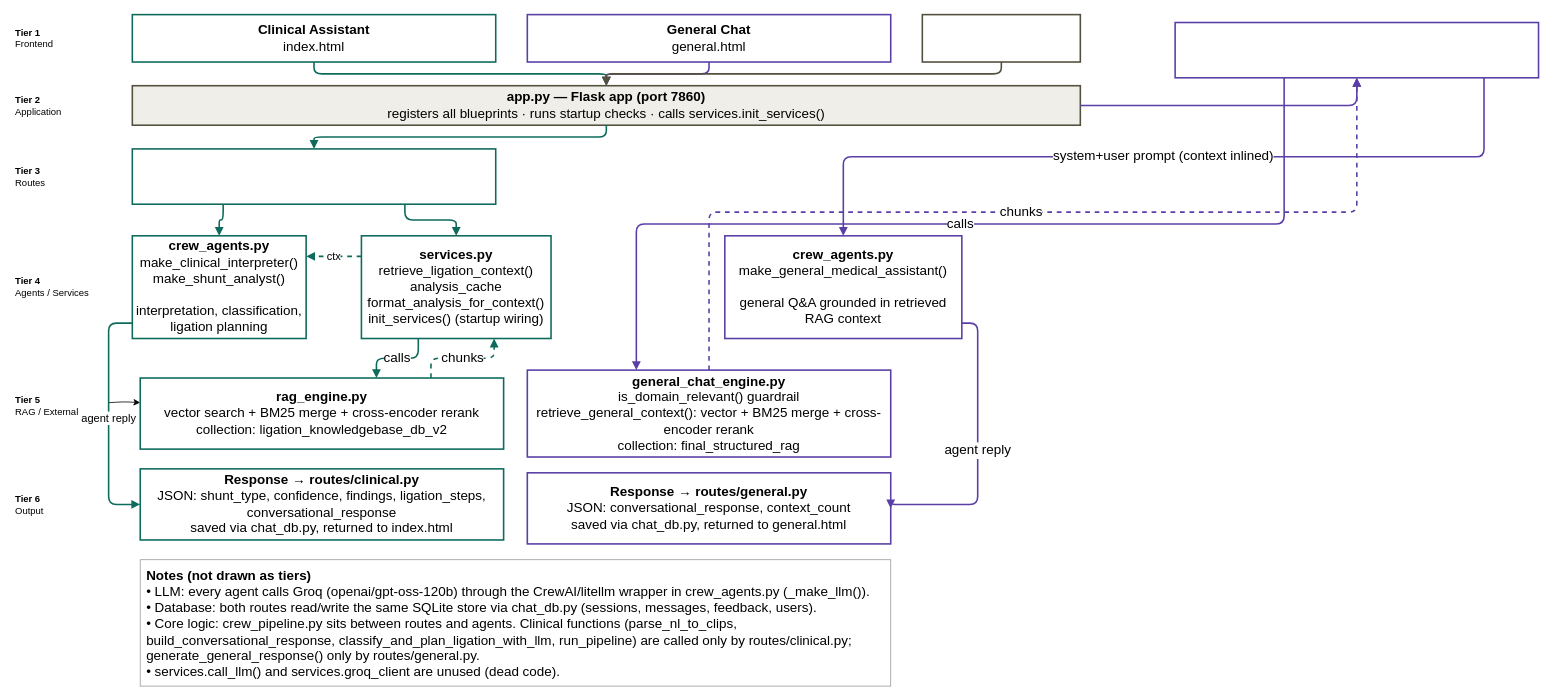
Image size: 1552x700. Some labels were removed from this diagram. The centre of each missing label's shape, as x and y in pixels:
"Admin Interface admin.html" goes at (x=1001, y=37).
"routes/clinical.py POST /api/chat POST /api/classify" goes at (x=313, y=176).
"routes/general.py POST /api/general-chat" goes at (x=1356, y=49).
